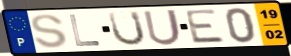0: (224, 6, 258, 44)
E: (183, 8, 228, 45)
L: (67, 14, 103, 48)
S: (29, 13, 69, 50)
U: (142, 8, 184, 47), (107, 10, 148, 47)
